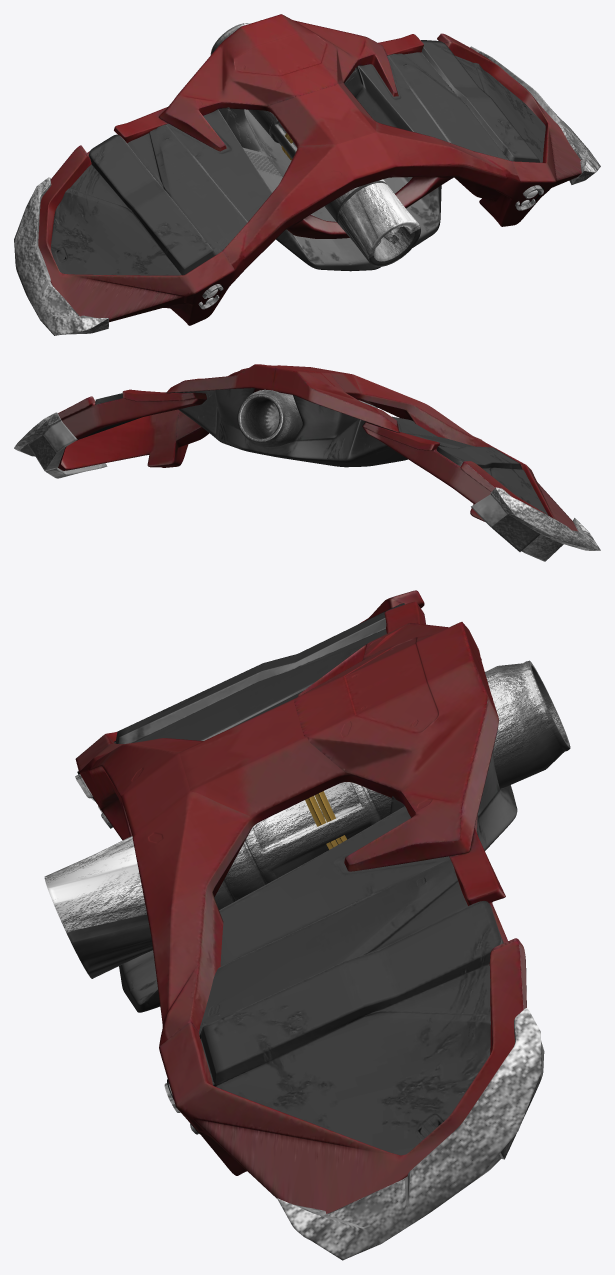
File: web_shooter_-_spider-man_2_ps5.glb
3 renders of one model, top to bottom at view 1: azimuth 30°, elevation 25°; view 2: azimuth 150°, elevation 25°; view 3: azimuth 270°, elevation 25°, orthographic. The views are drawn at different scales.
Parts seen in each view (by area): view 1: Object_5, Object_8, Object_16, Object_22; view 2: Object_5, Object_8, Object_16; view 3: Object_5, Object_8, Object_16, Object_22.
Boxes of the visible parts, x1,y1,x2,y2 form: Object_5: (38,14,581,325); Object_8: (51,40,545,275); Object_16: (14,23,600,335); Object_22: (338,183,420,266); Object_5: (58,364,578,531); Object_8: (81,388,548,515); Object_16: (14,389,600,561); Object_5: (75,590,526,1213); Object_8: (114,603,517,1155); Object_16: (75,660,570,1260); Object_22: (44,836,152,978).
Size of the model in its own units: 2.69 by 0.8865 by 1.15.
7 materials, 4 textured.
